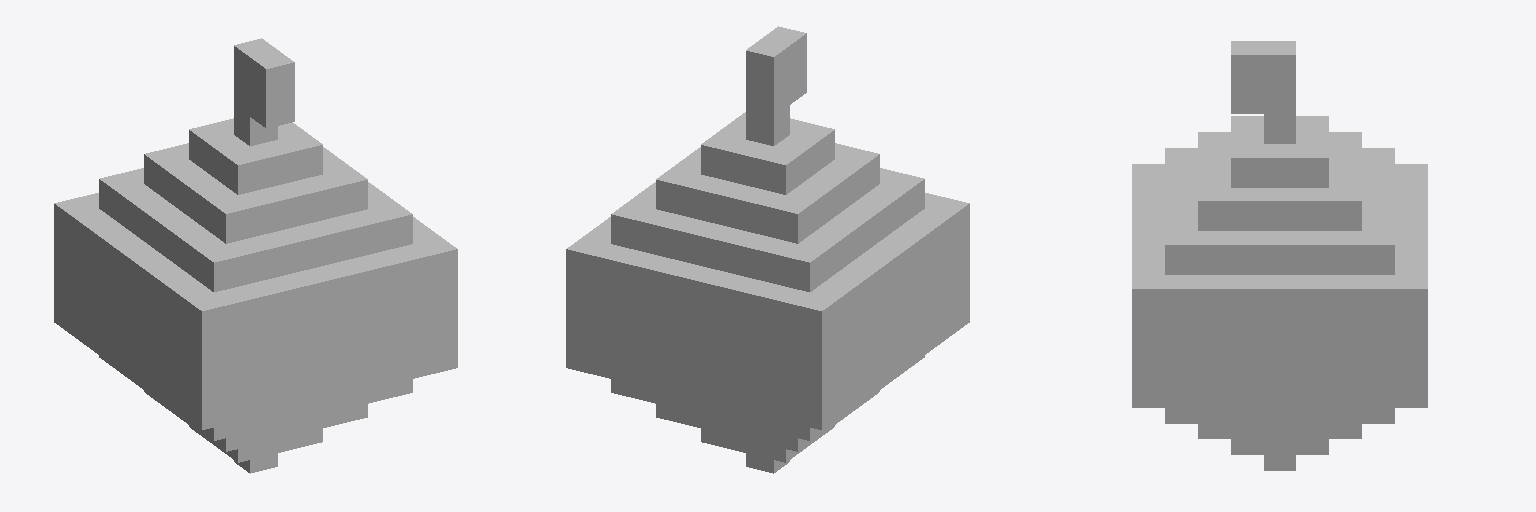
The model's file is noisette.obj.
3 renders of one model, left to right at view 1: azimuth 30°, elevation 25°; view 2: azimuth 150°, elevation 25°; view 3: azimuth 270°, elevation 25°, orthographic.
Bounding box in the file's own units: 9 × 14 × 9.